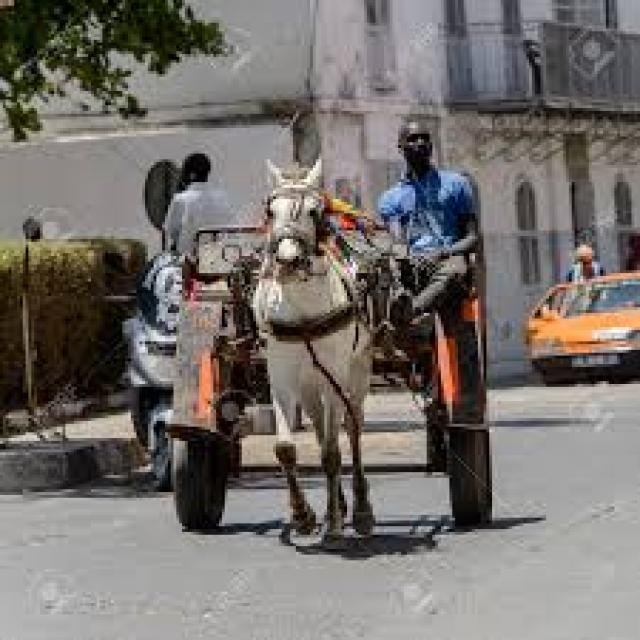charette: (127, 135, 491, 547)
taxi: (529, 272, 640, 382)
